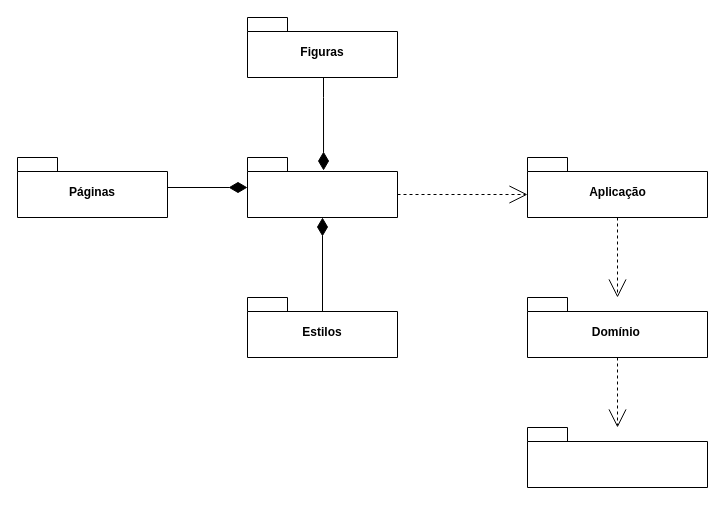
Some shapes in this 725 by 505 pixel diagram are drawn without their labels. The shapes that lost their labels are listed below. From the top down, each one's box as (x1, y1, x2, y2) in pixels, then its label:
(246, 156, 398, 218): Apresentação
(526, 426, 708, 488): Acesso aos Dados
